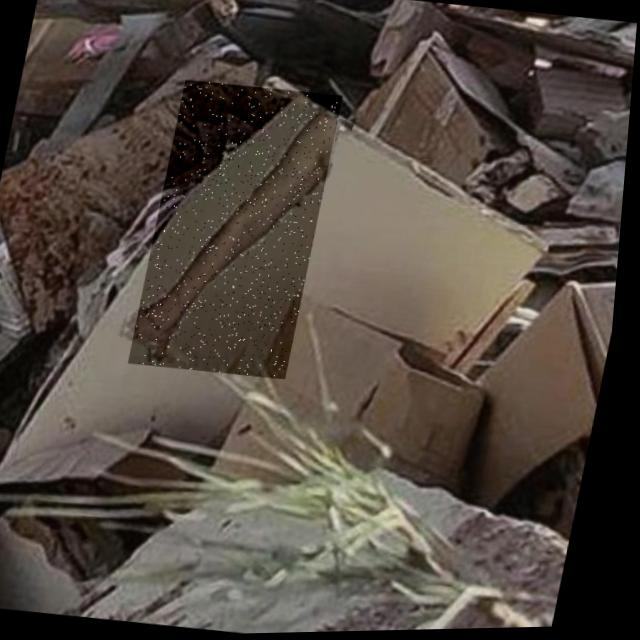Person in Rubble: (132, 78, 346, 383)
